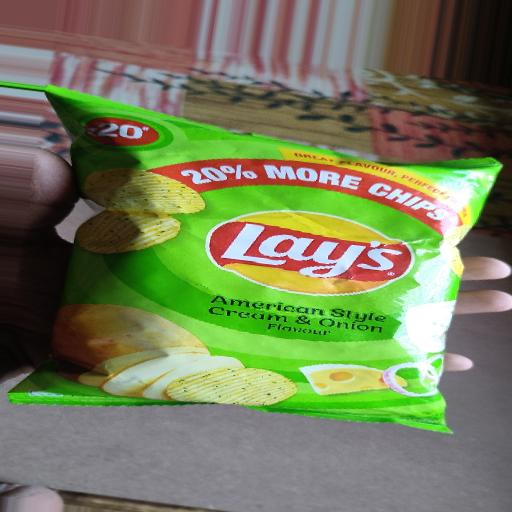Lays Green Small pack (American style cream and onion): (19, 84, 496, 473)
